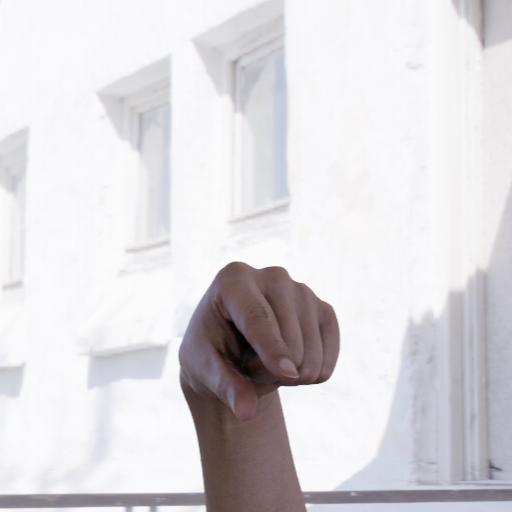Q: (173, 252, 341, 432)
